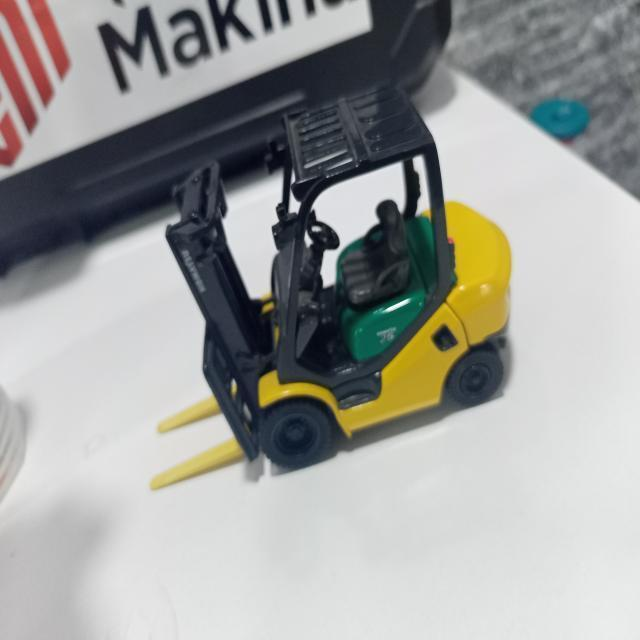forklift: (170, 118, 512, 467)
